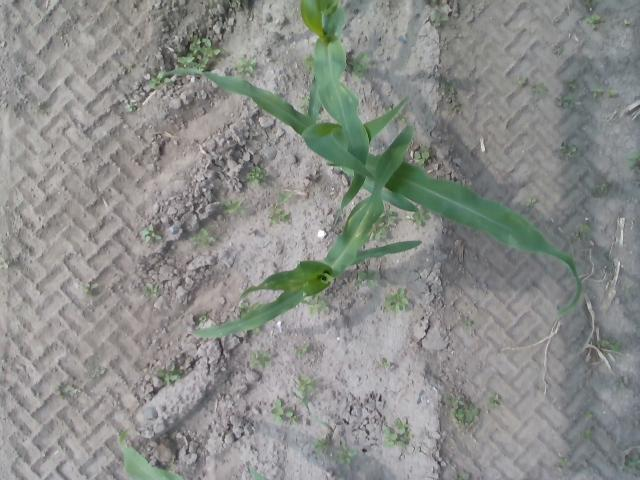Maize: (163, 68, 583, 318), (188, 125, 422, 339), (300, 0, 370, 226), (117, 427, 184, 480), (250, 462, 270, 480)
Weeds: (173, 36, 222, 72), (292, 391, 335, 431), (442, 394, 479, 426), (296, 374, 321, 412), (383, 416, 412, 448), (271, 398, 299, 425), (382, 288, 410, 314), (350, 50, 370, 82), (304, 294, 332, 316), (155, 364, 182, 386), (247, 165, 272, 188), (233, 56, 260, 77), (187, 227, 216, 246), (53, 382, 81, 401), (138, 222, 162, 244), (334, 442, 358, 464), (267, 208, 293, 228), (408, 206, 427, 232), (248, 349, 272, 369), (144, 72, 171, 89), (353, 270, 378, 288), (594, 338, 622, 354), (219, 200, 246, 216), (620, 452, 640, 473), (570, 224, 592, 243), (558, 142, 580, 161), (556, 95, 580, 111), (382, 208, 401, 228), (532, 82, 550, 103), (586, 13, 607, 31), (432, 10, 453, 28), (140, 283, 160, 300), (276, 190, 294, 208), (369, 224, 388, 241), (302, 51, 316, 74), (414, 146, 430, 166), (240, 300, 259, 316), (314, 434, 328, 454), (627, 150, 640, 171), (90, 364, 106, 380), (487, 391, 502, 408), (458, 316, 476, 330), (580, 0, 598, 13), (294, 343, 311, 356), (298, 96, 310, 114), (556, 456, 574, 468), (564, 78, 578, 92), (524, 196, 536, 212), (440, 82, 456, 94), (84, 283, 98, 296), (596, 182, 610, 194), (196, 314, 211, 325), (379, 356, 394, 367), (454, 470, 469, 480), (516, 75, 529, 86), (124, 103, 138, 113), (589, 88, 603, 98), (552, 46, 566, 56), (0, 256, 10, 269), (208, 0, 216, 16), (168, 454, 177, 468), (582, 428, 592, 440), (448, 103, 460, 112), (584, 411, 594, 420), (396, 114, 407, 122), (608, 89, 618, 97), (624, 19, 632, 29), (424, 0, 442, 4), (236, 0, 243, 10), (625, 284, 632, 293), (620, 380, 626, 386), (228, 0, 232, 5)
